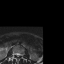CCS_normal: (17, 51, 18, 58)
LFS_normal: (20, 51, 22, 57)
LLS_normal: (18, 51, 20, 57)
RFS_normal: (14, 50, 16, 56)
RLS_normal: (16, 51, 17, 57)
